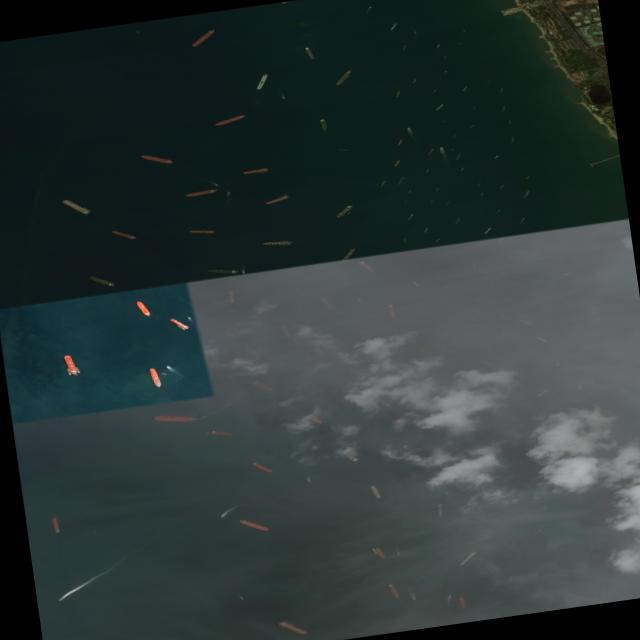plane: (561, 273, 569, 275)
ship: (189, 29, 216, 47), (60, 199, 90, 215), (276, 621, 308, 636), (212, 114, 245, 127), (237, 519, 269, 531), (139, 155, 173, 164), (63, 355, 78, 375), (88, 276, 115, 287), (457, 551, 476, 566), (134, 301, 151, 317), (334, 70, 351, 86), (184, 189, 217, 197), (149, 368, 162, 388), (249, 462, 272, 473), (249, 381, 274, 391), (334, 352, 353, 365), (374, 397, 394, 409), (335, 205, 353, 218), (263, 196, 289, 205), (110, 231, 136, 240), (386, 583, 400, 598), (152, 416, 194, 421), (341, 450, 358, 462), (169, 319, 189, 329), (368, 485, 381, 500), (255, 74, 267, 90), (340, 249, 355, 261), (358, 261, 373, 272), (306, 414, 322, 424), (373, 547, 385, 560), (400, 445, 422, 452), (242, 168, 267, 174), (319, 298, 332, 309), (205, 270, 238, 274), (279, 326, 290, 338), (51, 517, 59, 533), (303, 47, 313, 59), (209, 431, 233, 436), (387, 304, 395, 318), (319, 119, 327, 131), (458, 597, 466, 609), (535, 390, 548, 397), (262, 242, 291, 245), (518, 319, 532, 325), (228, 290, 234, 303), (534, 336, 547, 342), (434, 104, 443, 111), (532, 529, 541, 536), (482, 361, 494, 366), (281, 620, 293, 625), (389, 23, 396, 31), (437, 504, 441, 518), (411, 281, 420, 287), (188, 231, 214, 233), (447, 349, 460, 353), (443, 286, 456, 290), (81, 207, 91, 212), (522, 191, 529, 198), (393, 160, 400, 167), (490, 439, 498, 445), (176, 325, 185, 330), (276, 624, 285, 629), (276, 195, 287, 199), (512, 276, 523, 280), (530, 415, 541, 419), (397, 177, 404, 183), (406, 214, 413, 220), (483, 228, 490, 234), (517, 218, 524, 224), (364, 7, 371, 13), (427, 149, 434, 155), (497, 237, 503, 244), (371, 548, 377, 555), (503, 298, 513, 302), (465, 551, 473, 556), (204, 432, 217, 435), (379, 181, 385, 187), (255, 170, 267, 173), (396, 140, 402, 146), (255, 381, 264, 385), (419, 351, 431, 354), (454, 246, 466, 249), (526, 481, 532, 487), (454, 218, 459, 224), (66, 369, 71, 375), (487, 286, 493, 291), (470, 318, 477, 322), (500, 107, 505, 112), (278, 243, 290, 245), (395, 91, 399, 97), (75, 367, 79, 373), (507, 257, 519, 259), (356, 263, 362, 267), (577, 383, 581, 389), (479, 277, 491, 279), (337, 149, 348, 151), (423, 228, 427, 233), (510, 138, 514, 143), (495, 210, 500, 214), (555, 361, 559, 366), (499, 314, 504, 318), (430, 308, 435, 312), (402, 45, 405, 51), (412, 79, 416, 83), (462, 87, 466, 91), (459, 168, 464, 171), (524, 176, 529, 179), (402, 238, 405, 243), (436, 44, 439, 49), (469, 125, 474, 128), (501, 332, 504, 337), (57, 598, 62, 601), (424, 169, 428, 172), (455, 157, 459, 160), (434, 188, 438, 191), (403, 200, 406, 204), (125, 237, 131, 239), (493, 156, 497, 159), (233, 291, 237, 294), (435, 239, 439, 242), (451, 135, 455, 138), (441, 120, 445, 123), (479, 193, 483, 196), (476, 183, 480, 186), (160, 373, 166, 375), (449, 149, 454, 151), (165, 366, 170, 368), (445, 202, 448, 205), (499, 89, 502, 92), (432, 90, 435, 93), (281, 96, 284, 99), (472, 264, 475, 267), (220, 515, 223, 518), (413, 32, 416, 35), (508, 121, 510, 125), (499, 186, 503, 188), (186, 317, 190, 319), (334, 457, 338, 459), (436, 272, 443, 273), (412, 598, 415, 600), (407, 191, 409, 194), (448, 595, 451, 597), (443, 71, 446, 73), (436, 45, 438, 48), (241, 272, 244, 274), (439, 147, 442, 149), (406, 128, 409, 130), (214, 184, 217, 186), (93, 533, 96, 535), (307, 481, 310, 483), (311, 333, 313, 336), (240, 598, 243, 600), (430, 200, 432, 202), (486, 82, 488, 84), (443, 57, 445, 59), (458, 43, 460, 45), (472, 107, 474, 109), (395, 93, 397, 95), (227, 192, 229, 194), (357, 299, 359, 301), (397, 554, 399, 556), (259, 172, 262, 173), (74, 375, 77, 376), (347, 213, 350, 214), (409, 191, 410, 193), (496, 156, 498, 157), (463, 31, 464, 32), (462, 31, 463, 32)
